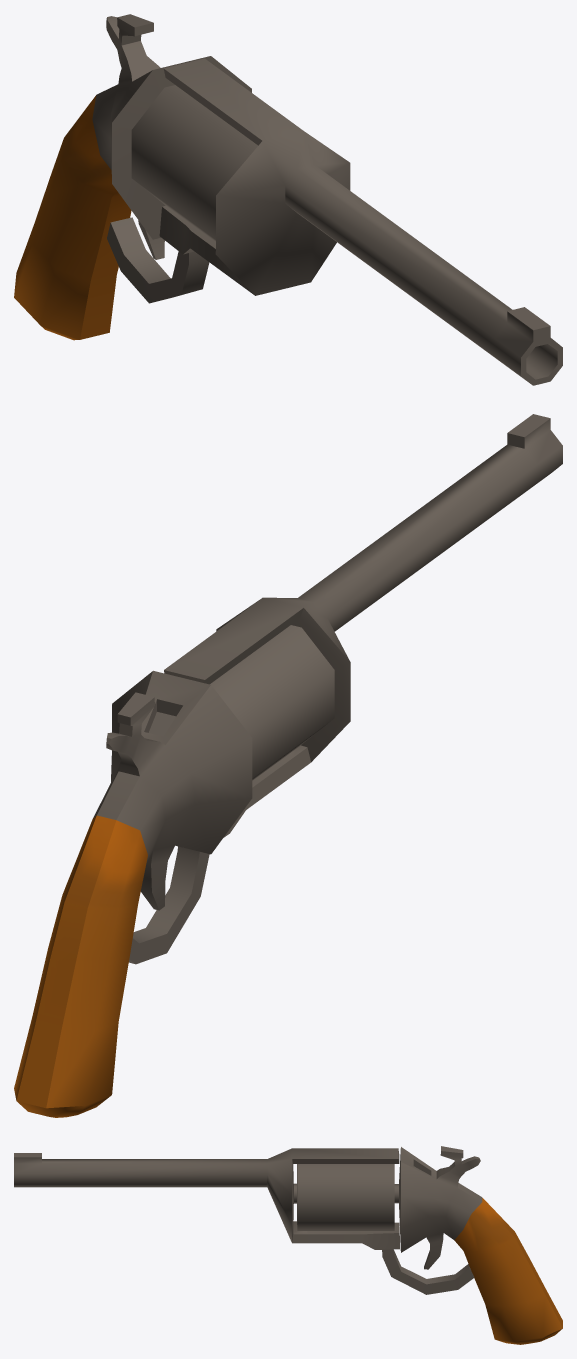
The model's file is revolver.obj.
The picture shows the model from 3 angles, top to bottom: view 1: azimuth 30°, elevation 25°; view 2: azimuth 150°, elevation 25°; view 3: azimuth 270°, elevation 25°; orthographic projection. The views are drawn at different scales.
Visible parts, largest first — view 1: Cylinder; view 2: Cylinder; view 3: Cylinder.
Boxes of the visible parts, box(x1,y1,x2,y2) form: Cylinder: box(14, 14, 562, 385); Cylinder: box(14, 414, 562, 1117); Cylinder: box(14, 1146, 562, 1344).
Size of the model in its own units: 2.13 by 5.24 by 13.46.
Materials: 1 (1 with a texture image).
